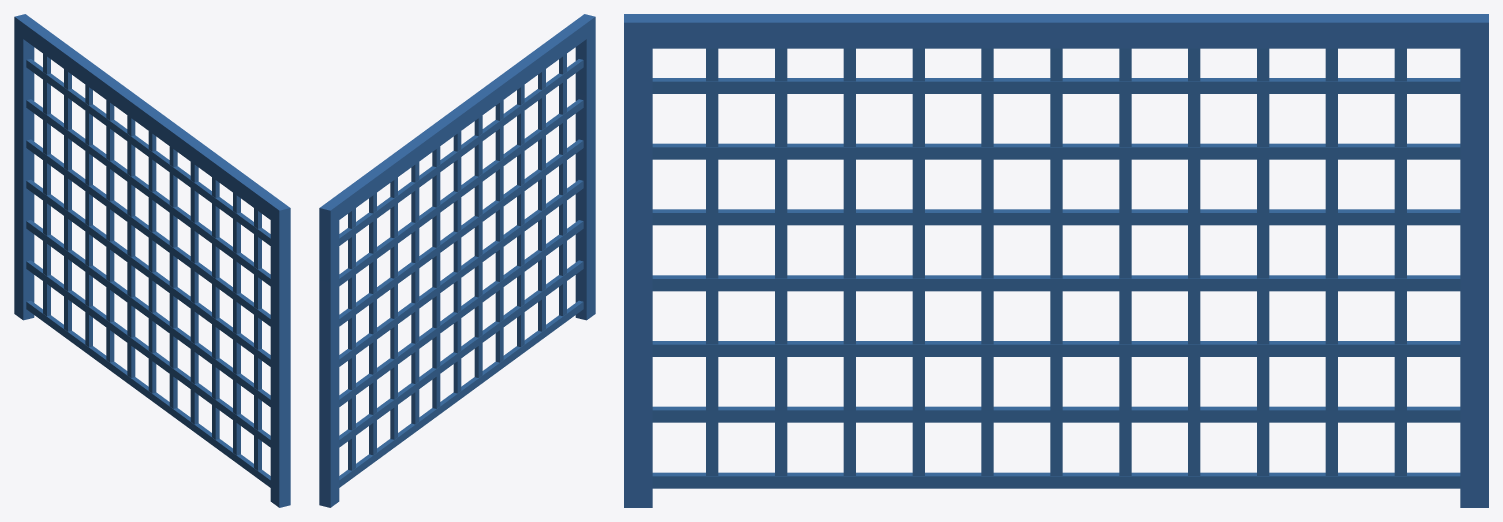
File: Fence_1_D_3.fbx
3 renders of one model, left to right at view 1: azimuth 30°, elevation 25°; view 2: azimuth 150°, elevation 25°; view 3: azimuth 270°, elevation 25°, orthographic. The views are drawn at different scales.
Visible parts, largest first — view 1: Fence_1_D_3; view 2: Fence_1_D_3; view 3: Fence_1_D_3.
Boxes of the visible parts, x1,y1,x2,y2 form: Fence_1_D_3: (14, 14, 290, 507); Fence_1_D_3: (319, 14, 595, 507); Fence_1_D_3: (624, 14, 1488, 507).
Bounding box in the file's own units: 9.6 × 248 × 400.
